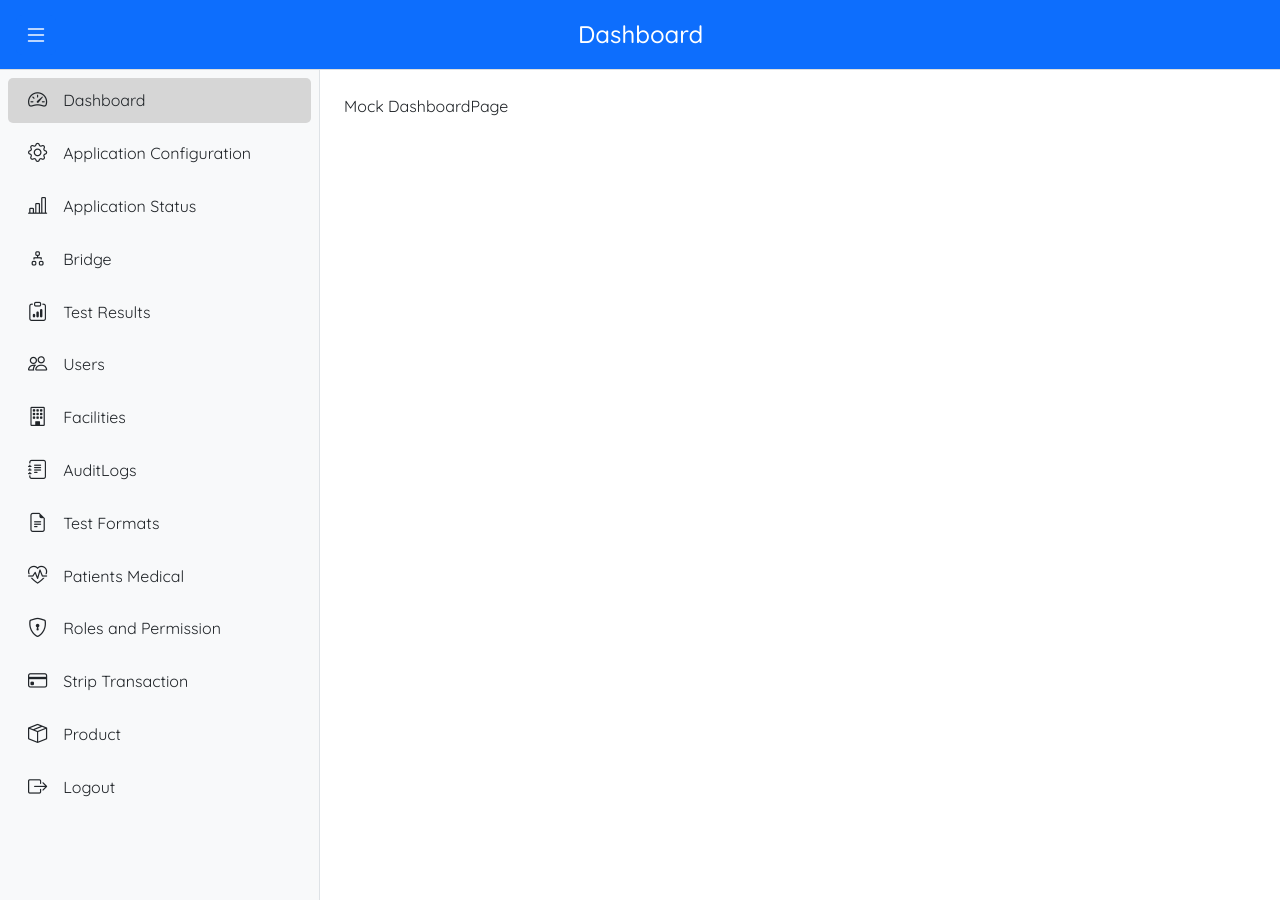
DashboardLayout › Navigation › renders Application Configuration page when nav item is clicked
Click the button with test id "nav-app-config": coordinates (140, 153) left=28, top=139, right=251, bottom=168
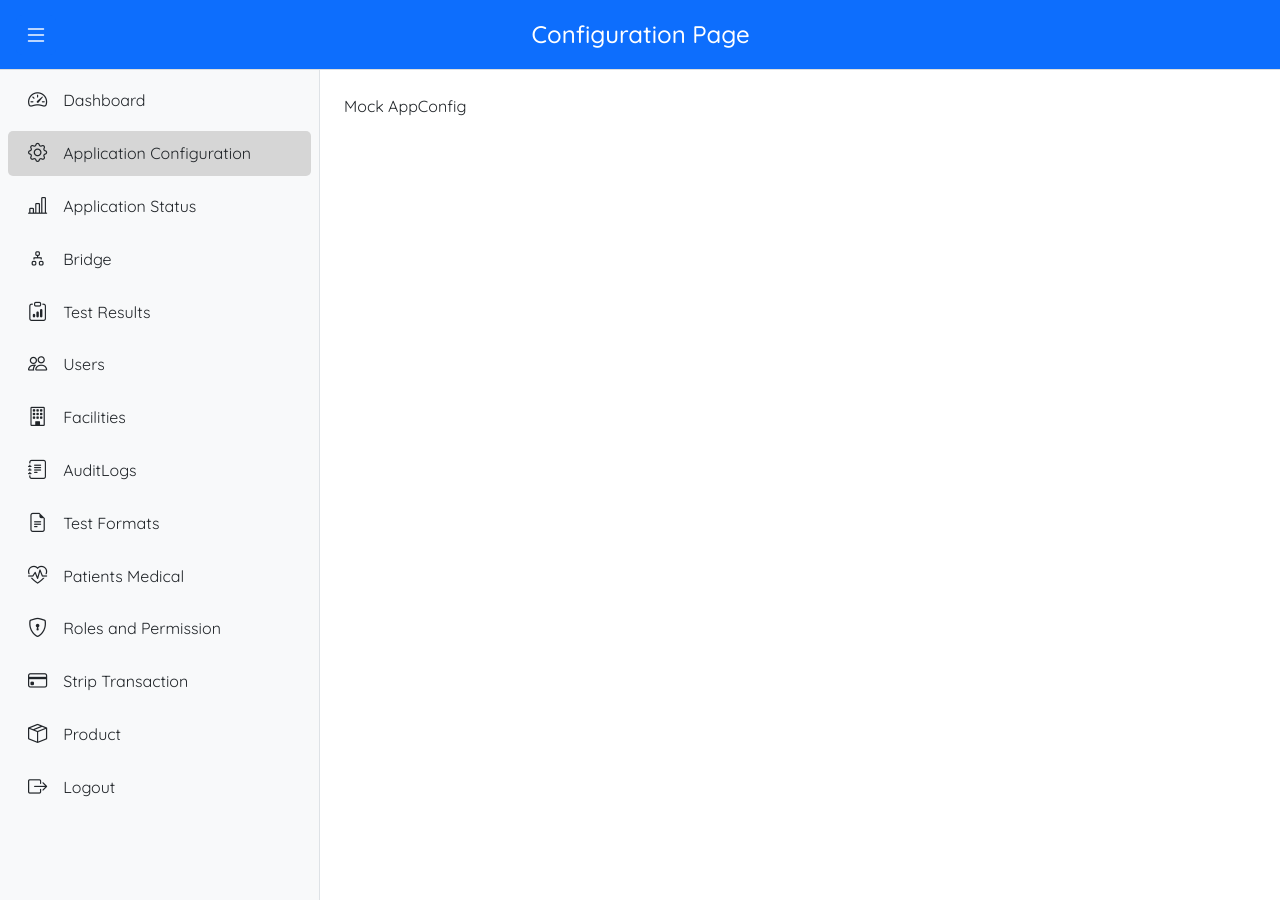
Result: the text "Mock AppConfig" is shown at left=344, top=96, right=466, bottom=116
